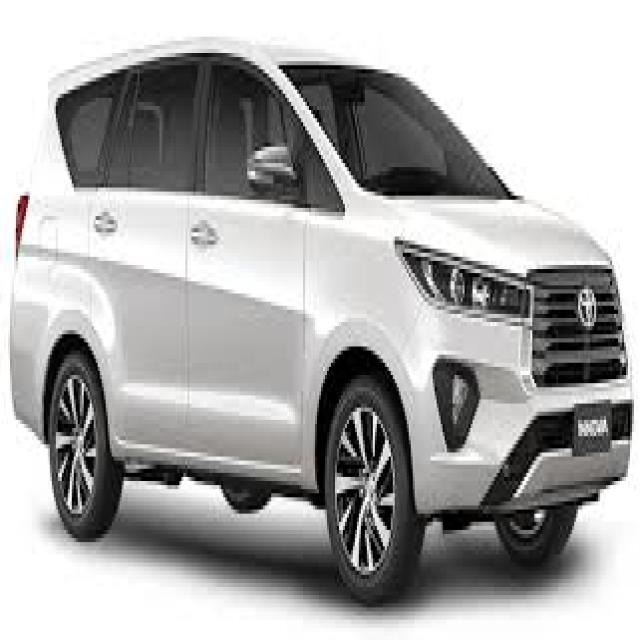light_vehicle: (9, 38, 634, 606)
